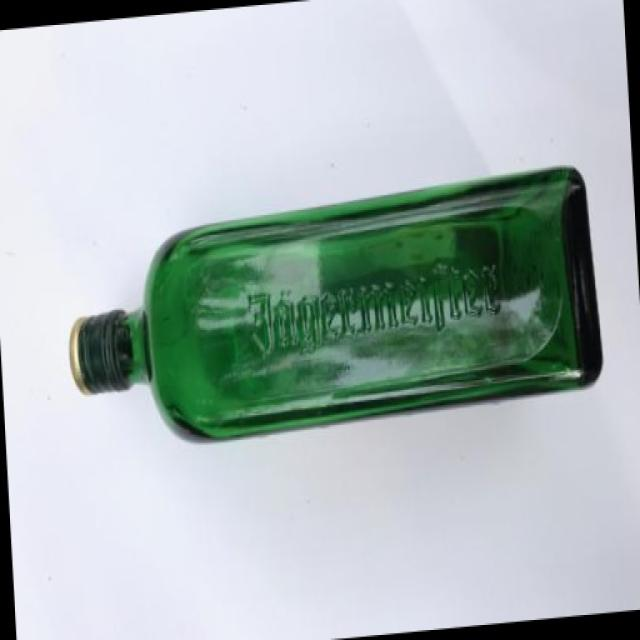vidrio: (37, 114, 624, 540)
